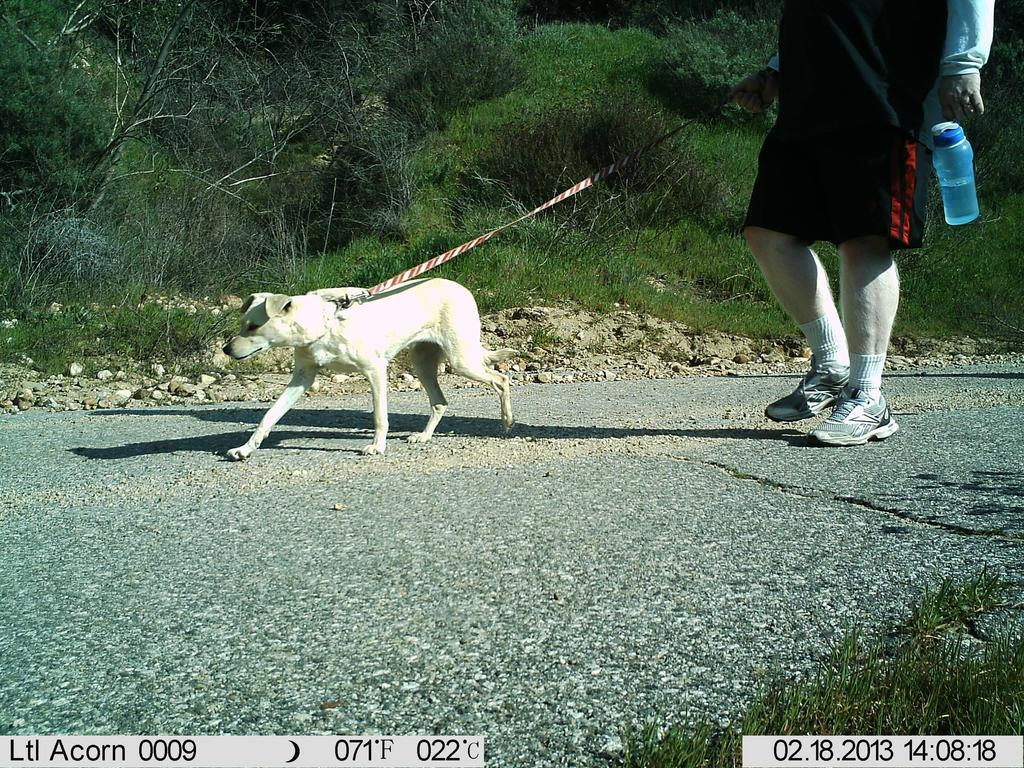dog: (203, 273, 549, 479)
